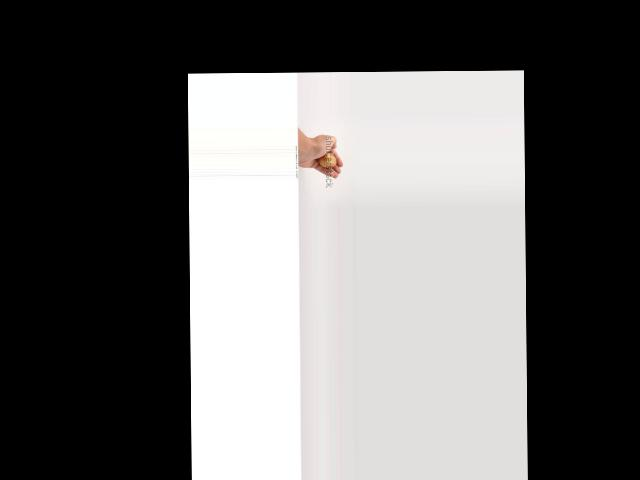egg: (318, 153, 336, 168)
